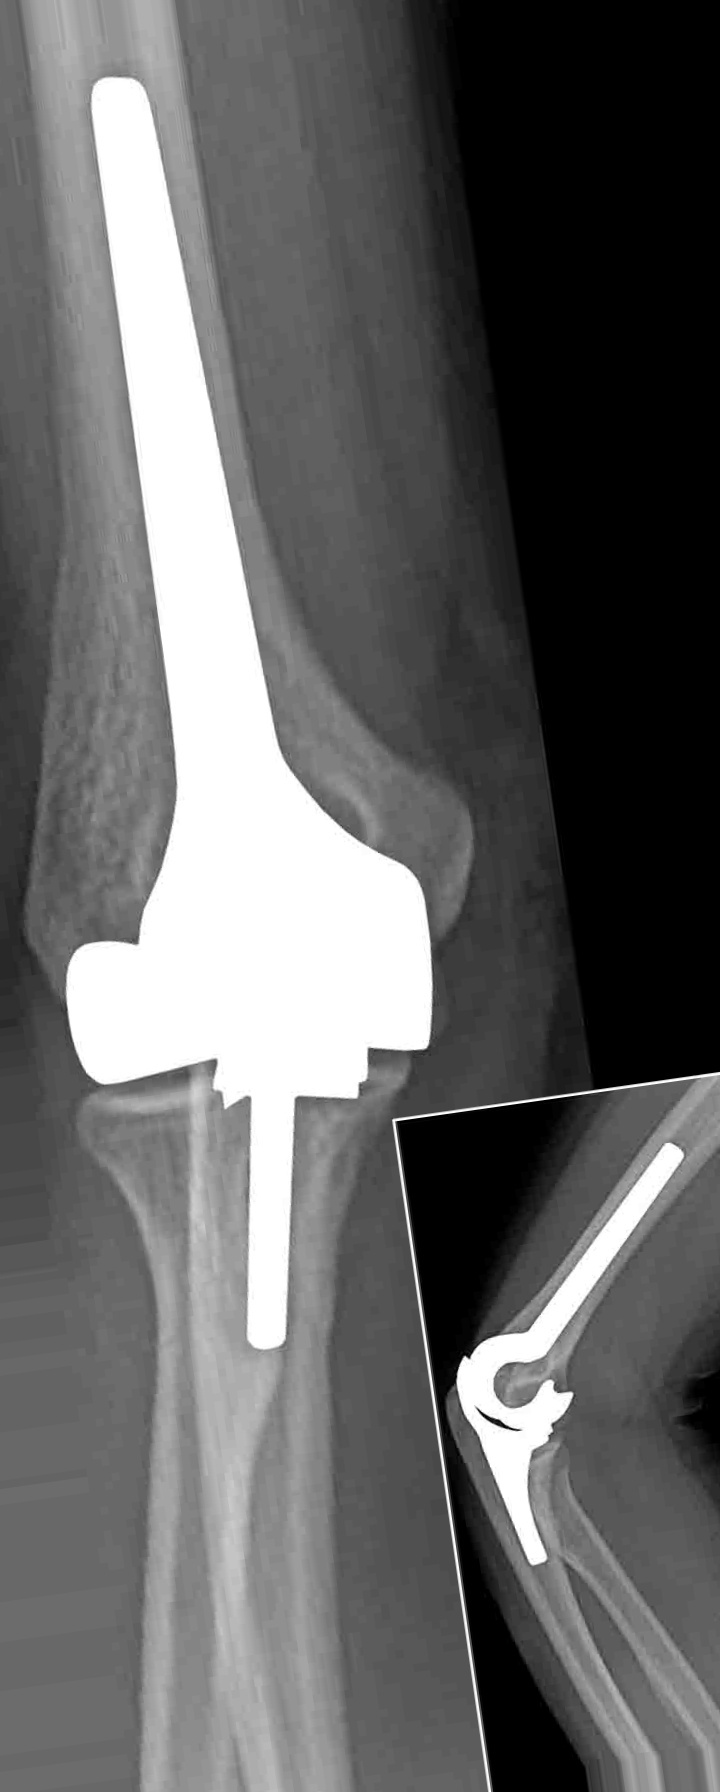Elbow - IBP - Biomet: (15, 63, 437, 1363), (453, 1127, 693, 1589)
